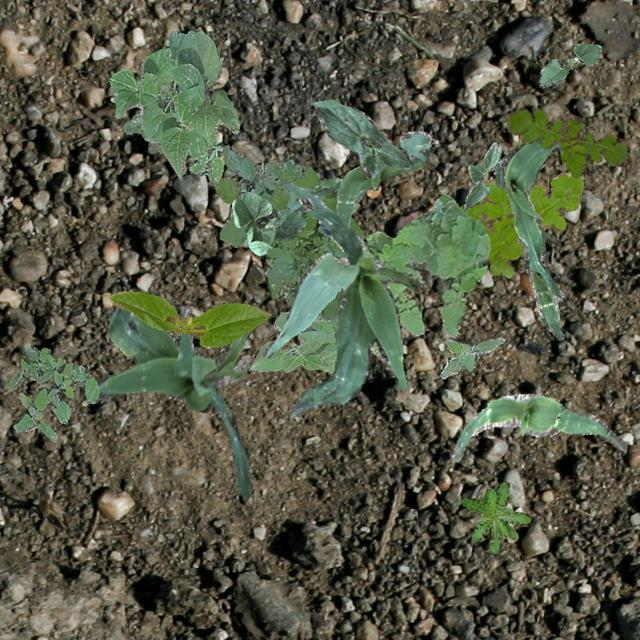crop: (262, 180, 419, 416), (96, 304, 252, 496), (242, 130, 430, 246), (108, 29, 238, 178), (502, 134, 562, 340), (450, 394, 626, 461), (109, 290, 268, 346), (312, 99, 412, 178), (249, 310, 337, 372), (230, 190, 304, 254), (536, 42, 600, 86), (464, 140, 504, 208)
weed: (320, 194, 490, 372), (214, 143, 366, 320), (458, 172, 582, 276), (121, 76, 222, 182), (8, 344, 98, 441), (506, 108, 626, 176), (460, 480, 530, 552), (438, 337, 504, 378)
